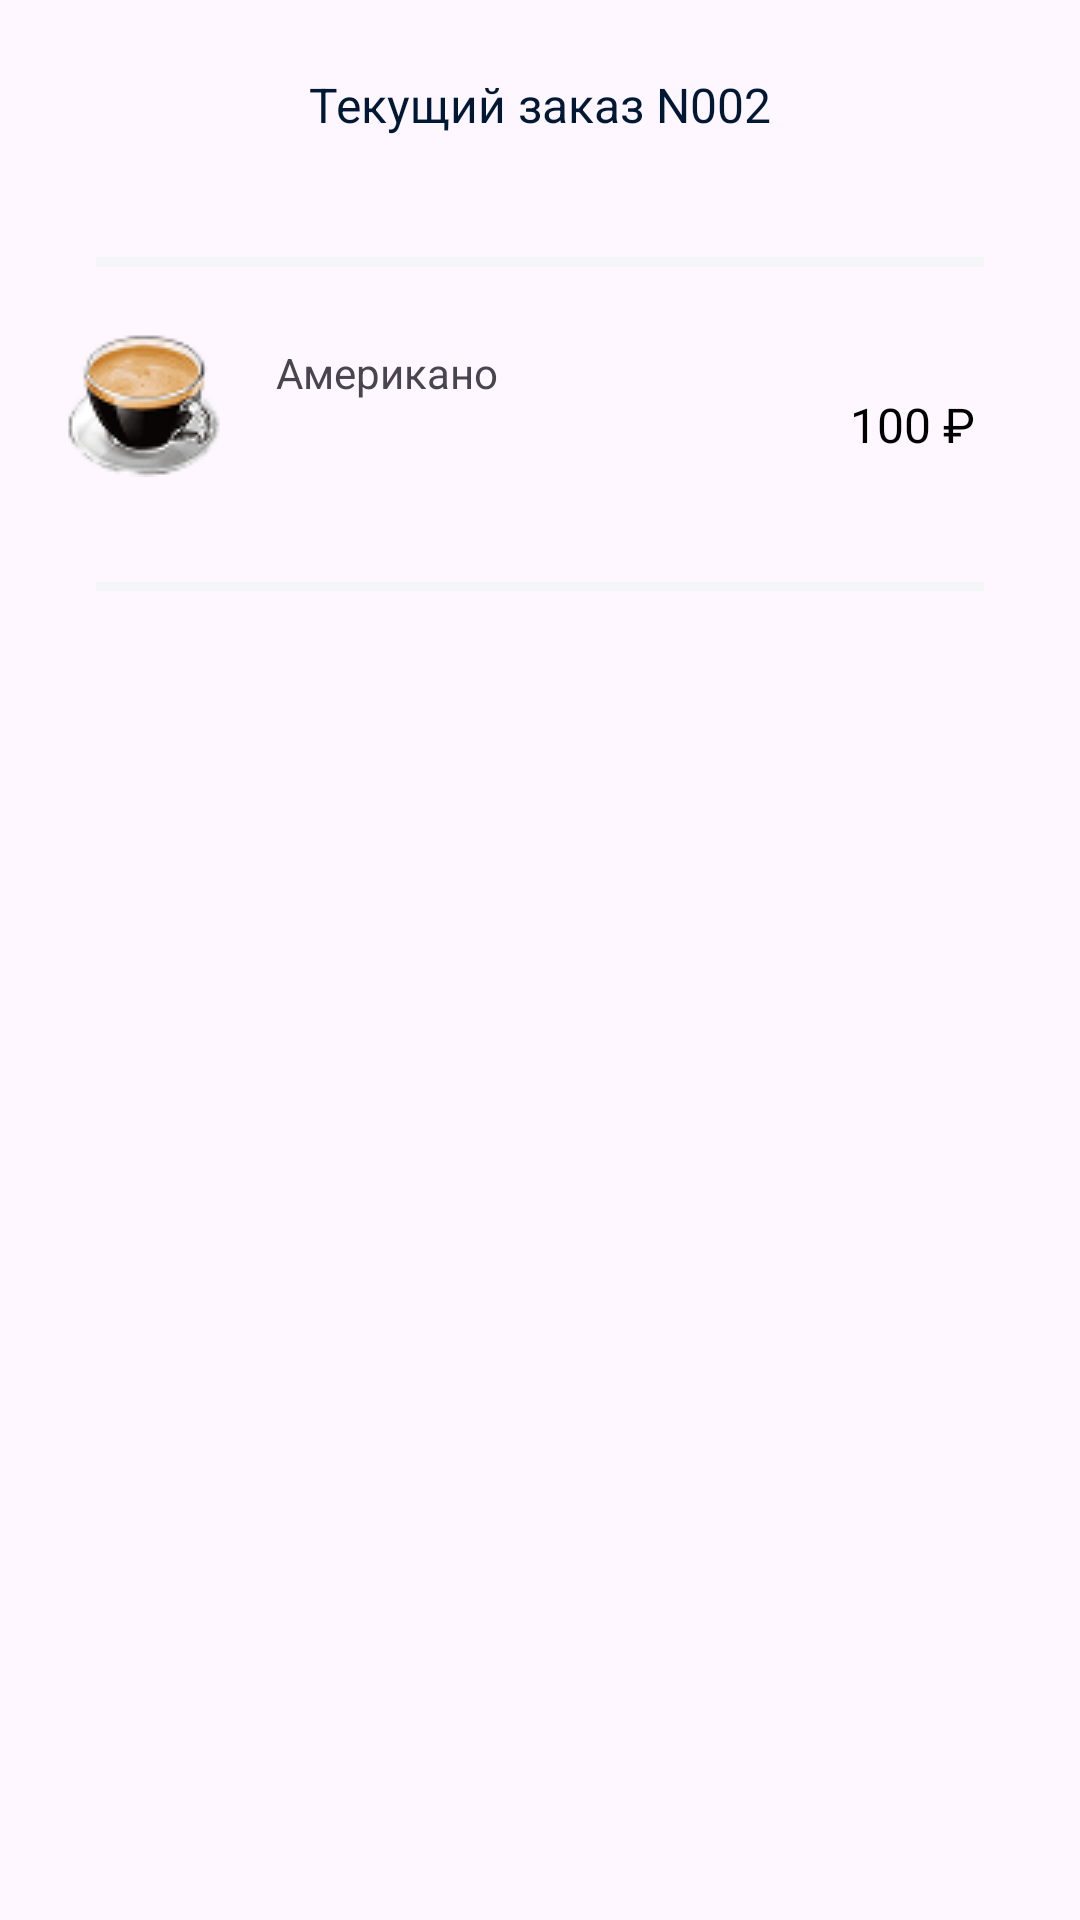

Screen size 1080px×1920px. Icon name, then its box in pixels as (x1, y1, x2, y2):
americano: (68, 335, 219, 477)
